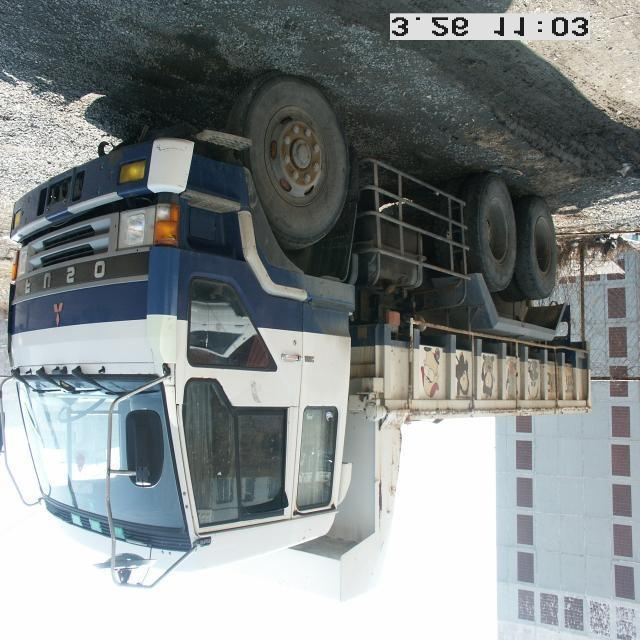Truck: (0, 69, 593, 566)
